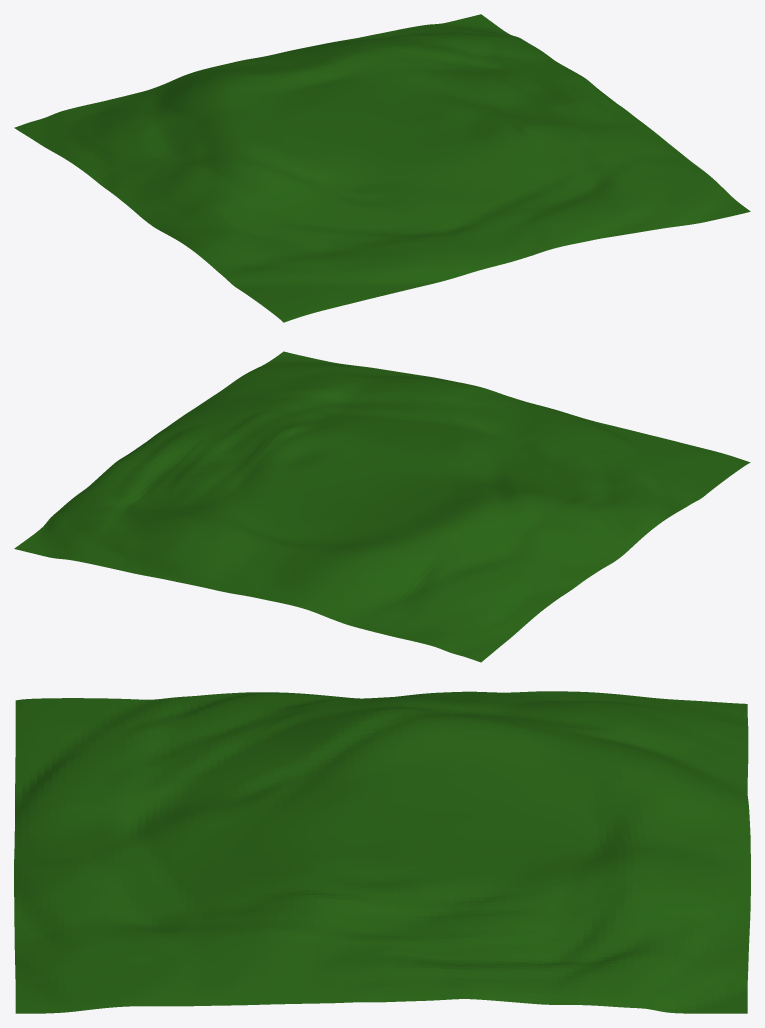
The model's file is floor.fbx.
The picture shows the model from 3 angles, top to bottom: view 1: azimuth 30°, elevation 25°; view 2: azimuth 150°, elevation 25°; view 3: azimuth 270°, elevation 25°; orthographic projection. The views are drawn at different scales.
Visible parts, largest first — view 1: Floor; view 2: Floor; view 3: Floor.
Boxes of the visible parts, box(x1,y1,x2,y2) form: Floor: box(14, 14, 750, 322); Floor: box(14, 351, 750, 662); Floor: box(14, 691, 750, 1013).
Bounding box in the file's own units: 504 × 43.93 × 504.
